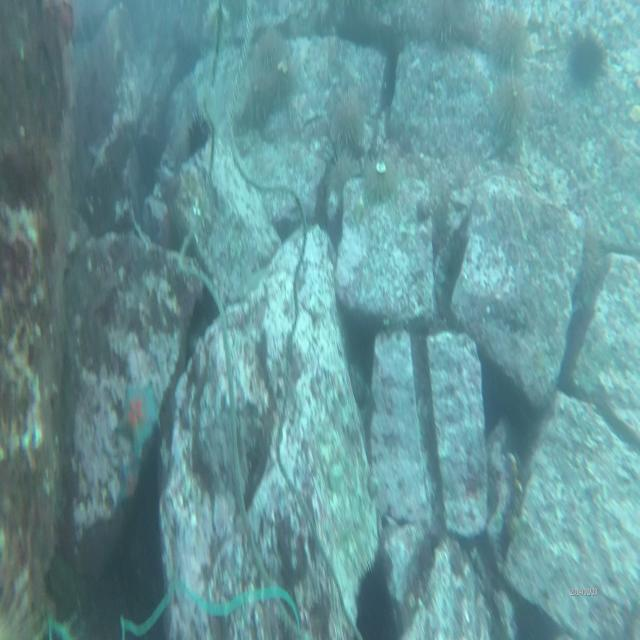echinus: (563, 10, 612, 96), (492, 75, 538, 166), (241, 32, 287, 121), (486, 3, 534, 70), (328, 86, 366, 150), (428, 0, 471, 56), (364, 150, 404, 205), (323, 147, 359, 206)
starfish: (114, 374, 162, 454), (115, 452, 142, 508)
